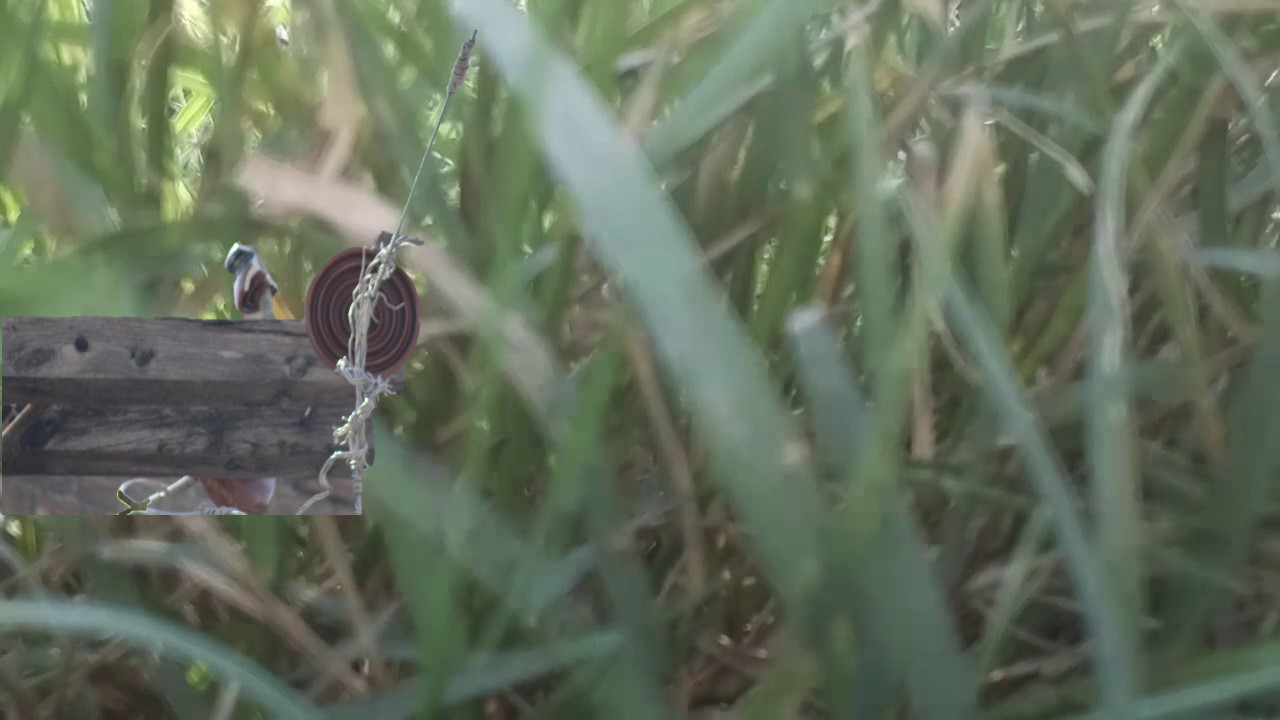defect_pin: (221, 230, 278, 321)
insulator_disc: (304, 239, 426, 385)
